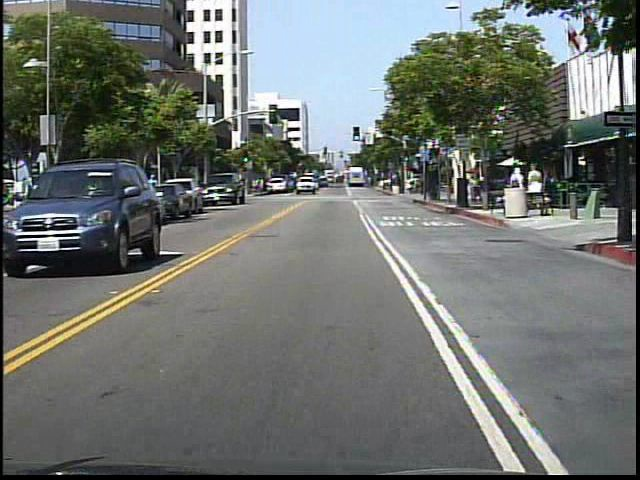person: (253, 174, 267, 200)
